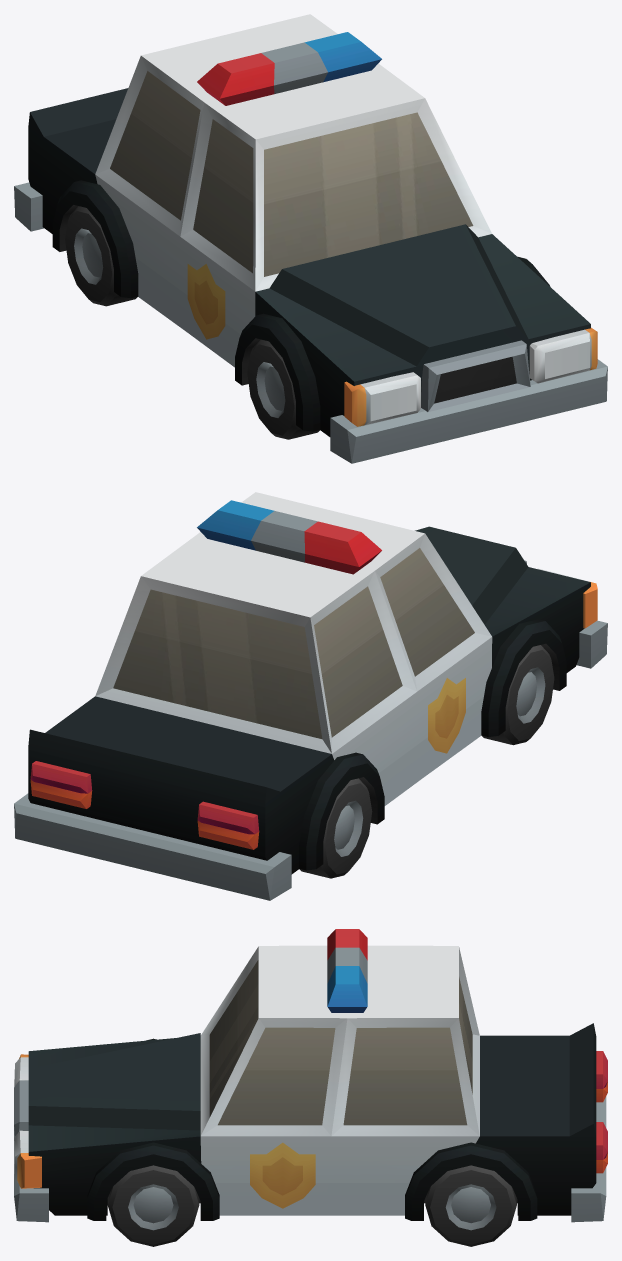
The model's file is police_car_free_model.glb.
3 renders of one model, top to bottom at view 1: azimuth 30°, elevation 25°; view 2: azimuth 150°, elevation 25°; view 3: azimuth 270°, elevation 25°, orthographic. The views are drawn at different scales.
Parts seen in each view (by area): view 1: car_police, car_police_wheel_rear_right, car_police_wheel_front_right; view 2: car_police, car_police_wheel_front_right, car_police_wheel_rear_right; view 3: car_police, car_police_wheel_front_left, car_police_wheel_rear_left.
Part boxes in pixels (x1=…): car_police: x1=14, y1=14, x2=607, y2=463; car_police_wheel_rear_right: x1=65, y1=206, x2=137, y2=306; car_police_wheel_front_right: x1=247, y1=339, x2=319, y2=439; car_police: x1=14, y1=492, x2=607, y2=900; car_police_wheel_front_right: x1=482, y1=645, x2=554, y2=745; car_police_wheel_rear_right: x1=299, y1=778, x2=372, y2=878; car_police: x1=14, y1=929, x2=607, y2=1222; car_police_wheel_front_left: x1=107, y1=1165, x2=199, y2=1246; car_police_wheel_rear_left: x1=425, y1=1165, x2=516, y2=1246.
Bounding box in the file's own units: 0.419 × 0.4126 × 0.9381.
Materials: 1 (1 with a texture image).
